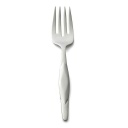fork: (50, 5, 87, 124)
